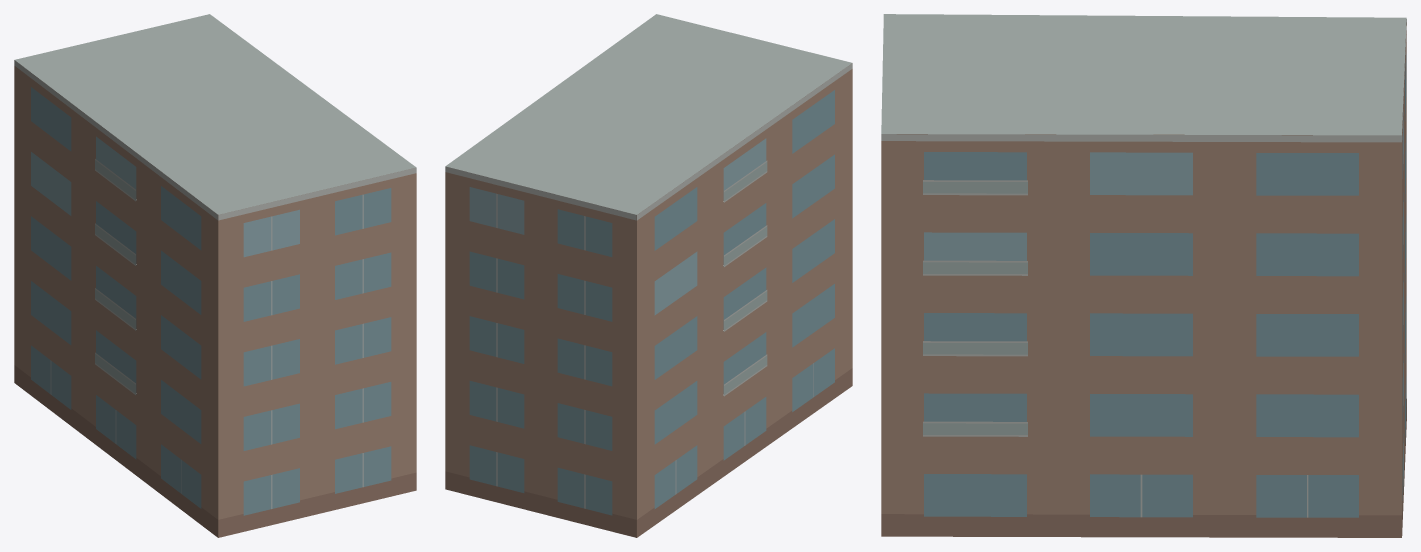
The model's file is survey-upis-32822160.glb.
The picture shows the model from 3 angles, left to right: view 1: azimuth 30°, elevation 25°; view 2: azimuth 150°, elevation 25°; view 3: azimuth 270°, elevation 25°; orthographic projection. The views are drawn at different scales.
Parts seen in each view (by area): view 1: survey-upis-32822160.tmp; view 2: survey-upis-32822160.tmp; view 3: survey-upis-32822160.tmp.
Boxes of the visible parts, left/top/right/bottom form: survey-upis-32822160.tmp: left=14, top=14, right=416, bottom=537; survey-upis-32822160.tmp: left=445, top=14, right=852, bottom=537; survey-upis-32822160.tmp: left=881, top=14, right=1406, bottom=537.
Size of the model in its own units: 9 by 13.9 by 16.45.
